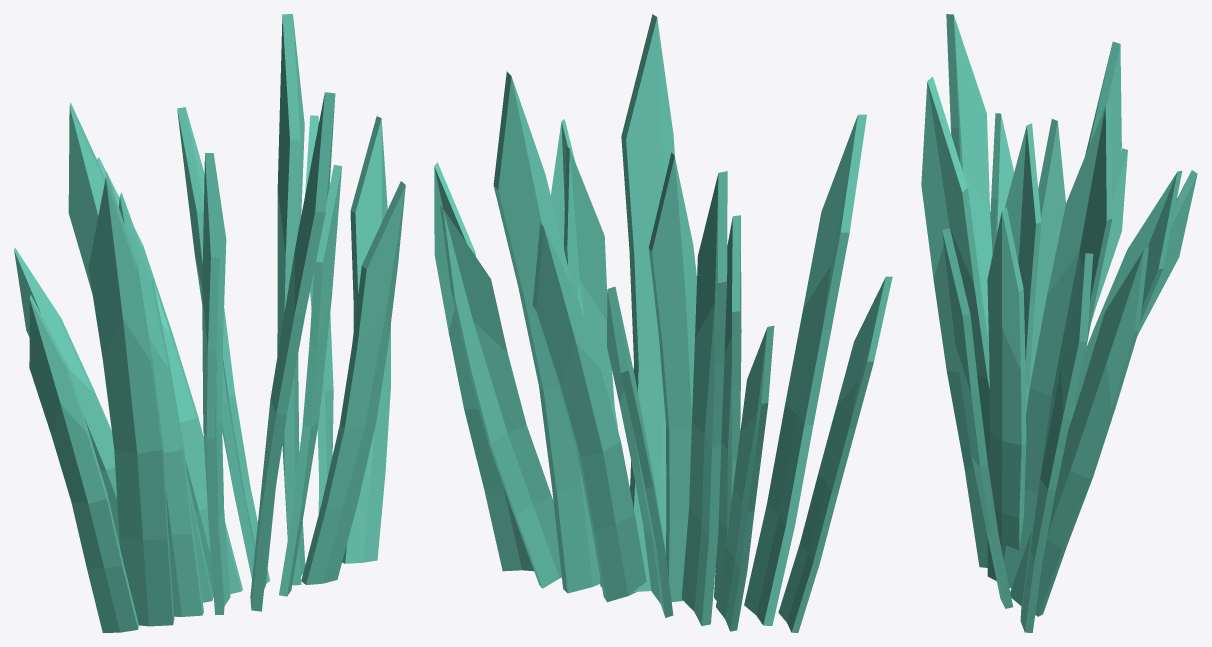
Rendered from Grama 1.fbx.
The picture shows the model from 3 angles, left to right: view 1: azimuth 30°, elevation 25°; view 2: azimuth 150°, elevation 25°; view 3: azimuth 270°, elevation 25°; orthographic projection. The views are drawn at different scales.
Visible parts, largest first — view 1: Grama 1; view 2: Grama 1; view 3: Grama 1.
Part boxes in pixels (bbox=[...]): Grama 1: bbox=[14, 14, 405, 632]; Grama 1: bbox=[434, 14, 892, 632]; Grama 1: bbox=[921, 14, 1197, 632].
Size of the model in its own units: 34.92 by 44.14 by 21.58.
